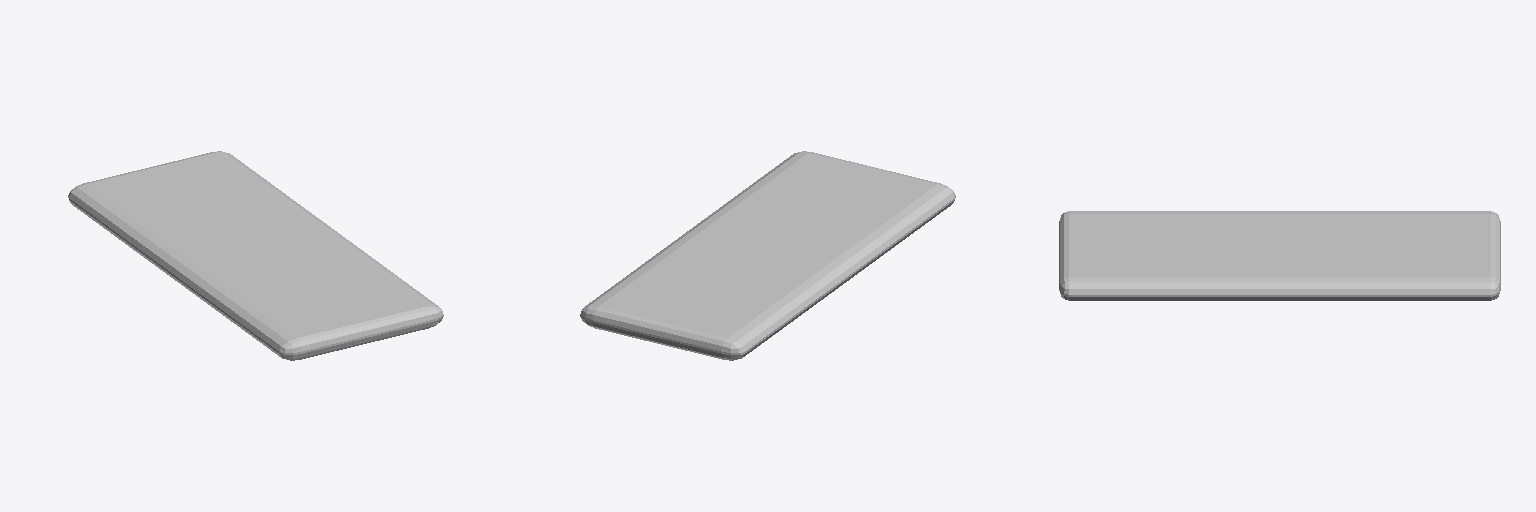
Rendered from countertop.obj.
3 views of the same model, side by side, from view 1: azimuth 30°, elevation 25°; view 2: azimuth 150°, elevation 25°; view 3: azimuth 270°, elevation 25° (orthographic).
Size of the model in its own units: 49.38 by 6.07 by 116.